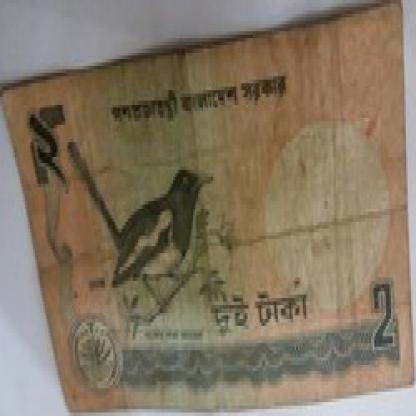two taka: (23, 111, 85, 194), (354, 278, 398, 367)
